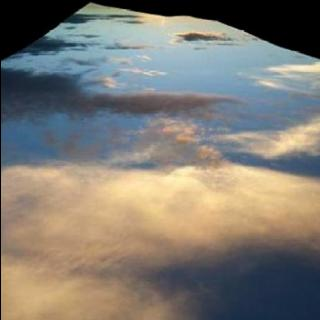Cirrostratus: (0, 29, 320, 320)
